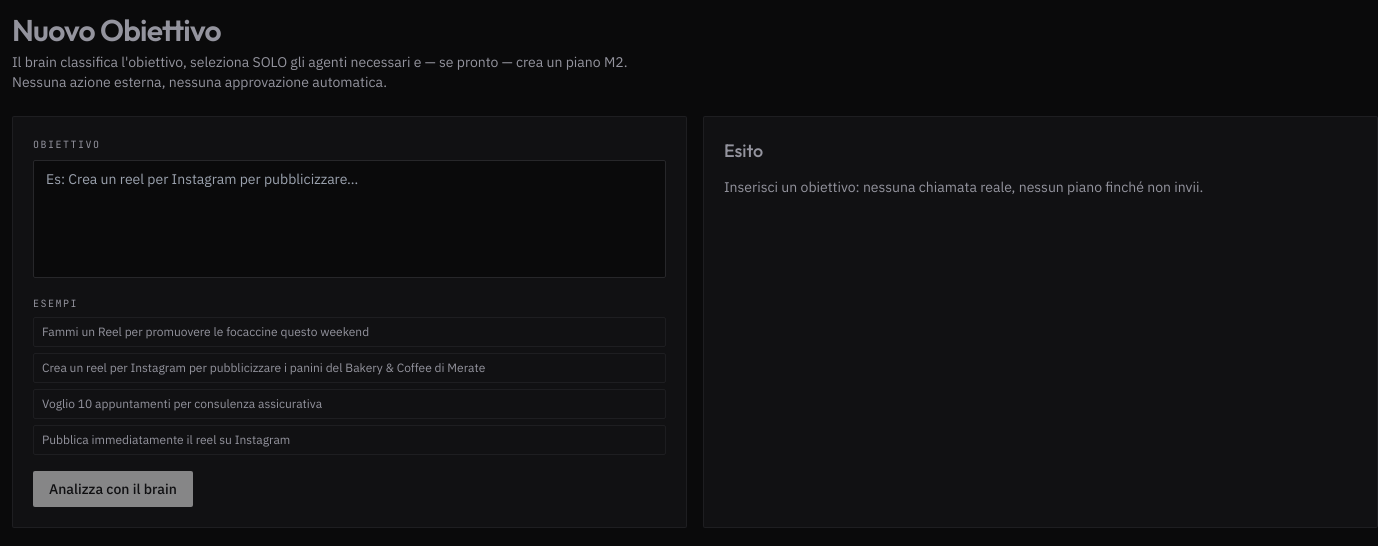
Test: NewGoal › blocca l'invio del chiarimento se una domanda resta senza risposta
Type "obiettivo vago" into the text box with test id "goal-input" at (350, 219), box x1=33 y1=160 x2=666 y2=278
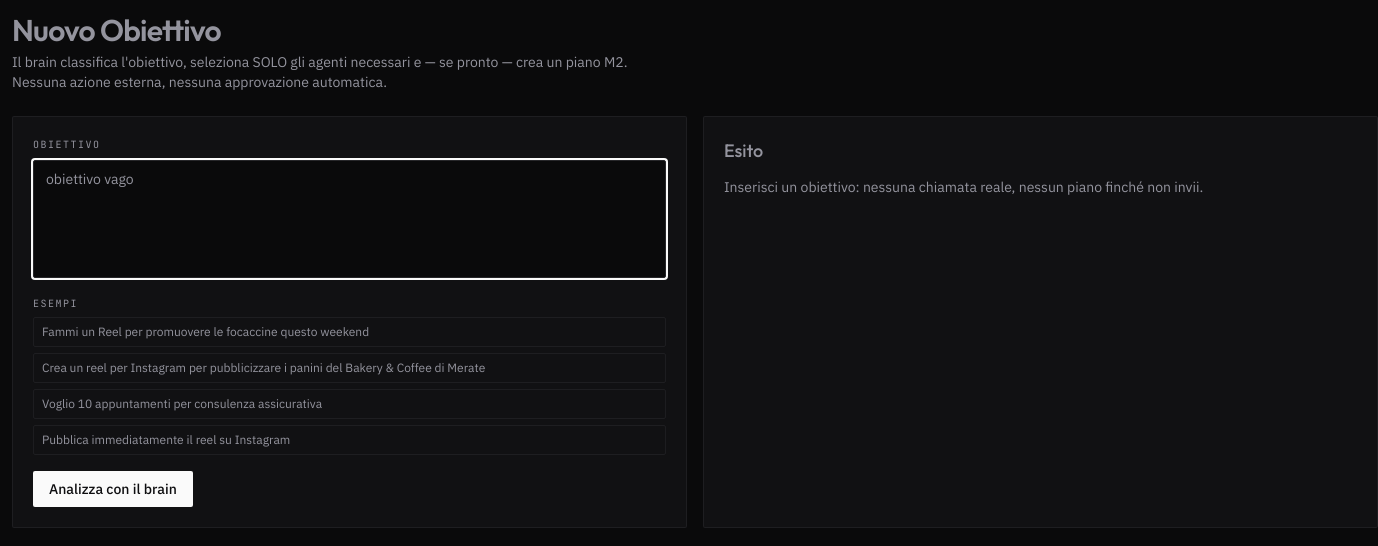
Click the button with test id "goal-classify" at (113, 489), box x1=33 y1=471 x2=193 y2=507
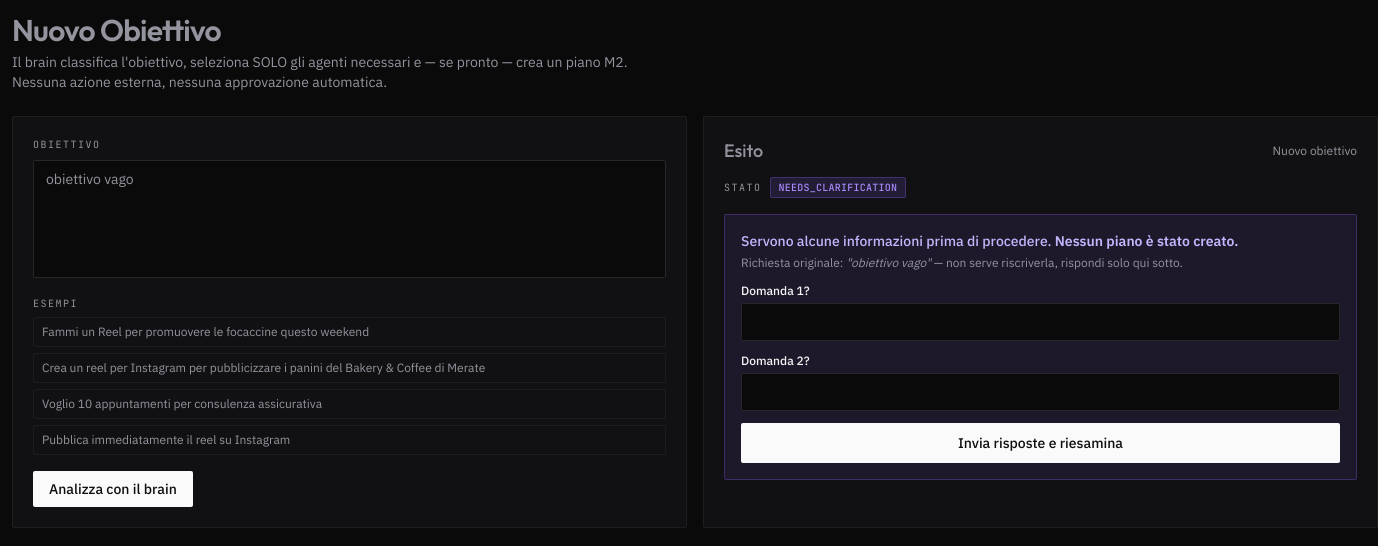
Expected: the element with test id "goal-clarify" is shown, x1=724 y1=214 x2=1357 y2=480
Type "risposta" into the field with test id "clarify-answer-0" at (1040, 322), box x1=741 y1=303 x2=1340 y2=341
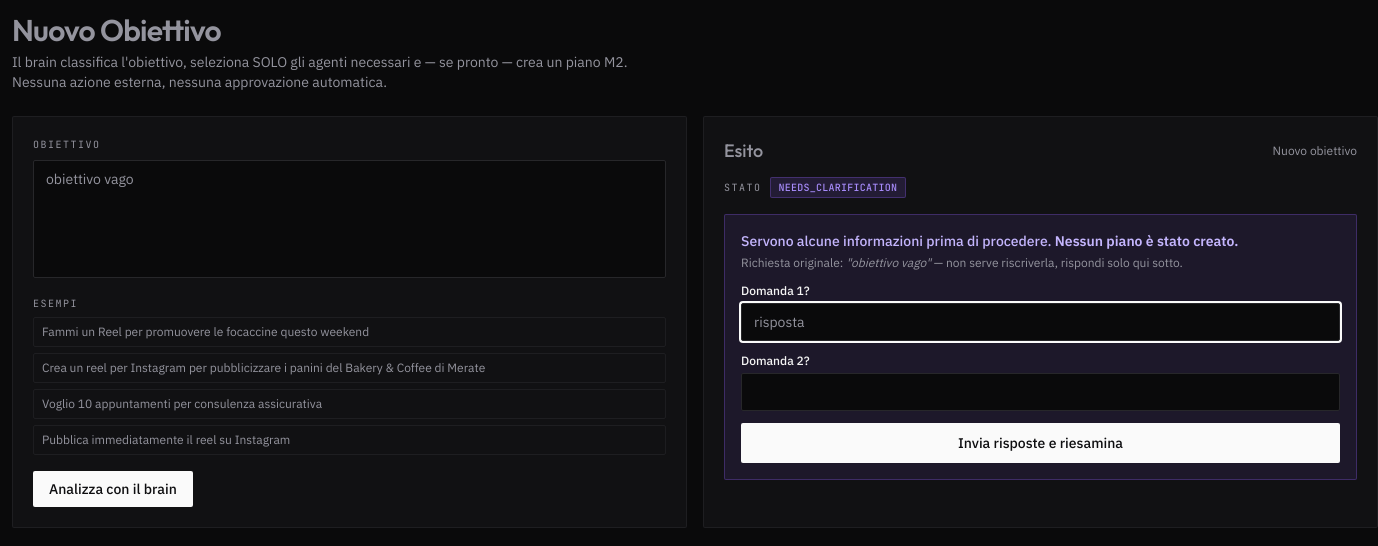
Click the button with test id "clarify-submit" at (1040, 443), box x1=741 y1=423 x2=1340 y2=463
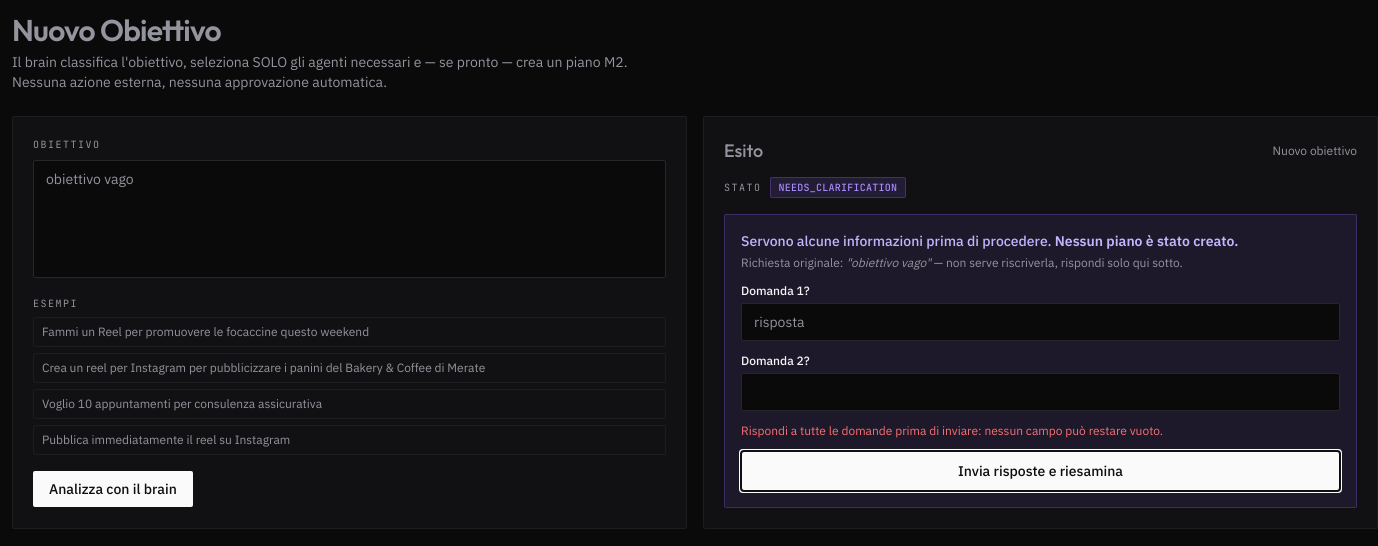
Expected: the text with test id "clarify-error" is shown, x1=741 y1=423 x2=1163 y2=438
